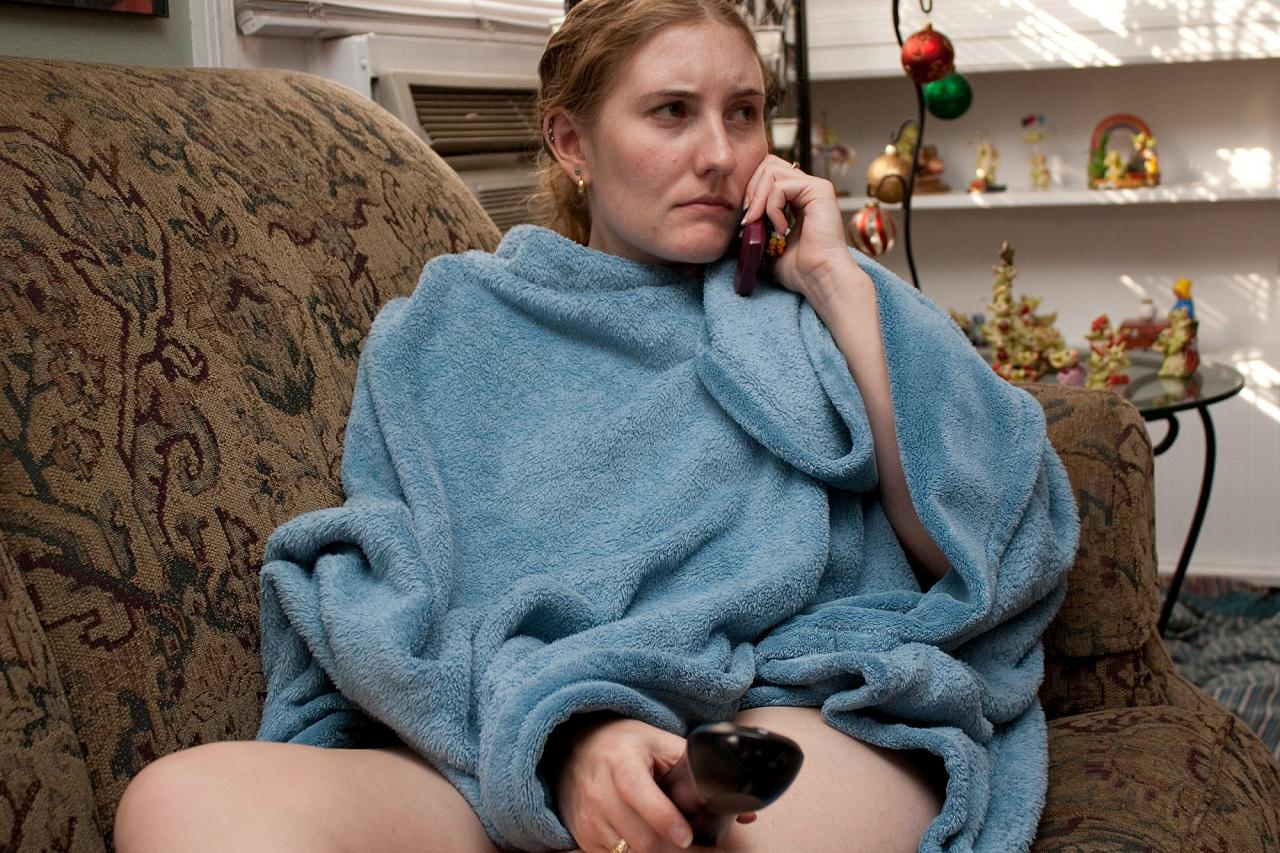phone: (721, 153, 821, 297)
talk: (621, 54, 863, 314)
